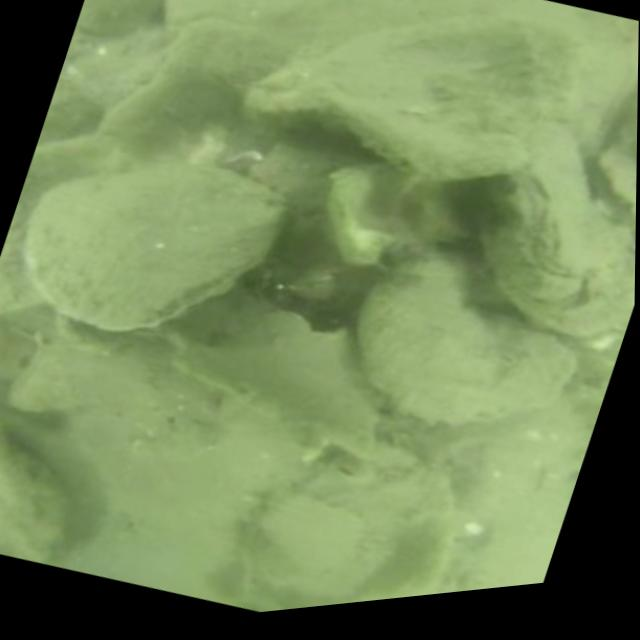Oyster-Closed: (18, 164, 288, 328)
Oyster-Indeterminate: (245, 17, 593, 183), (235, 437, 498, 612), (349, 244, 577, 424), (152, 291, 382, 462), (86, 15, 295, 175), (482, 137, 636, 336), (321, 156, 469, 268), (4, 340, 155, 423), (0, 427, 69, 565), (606, 113, 637, 211)
